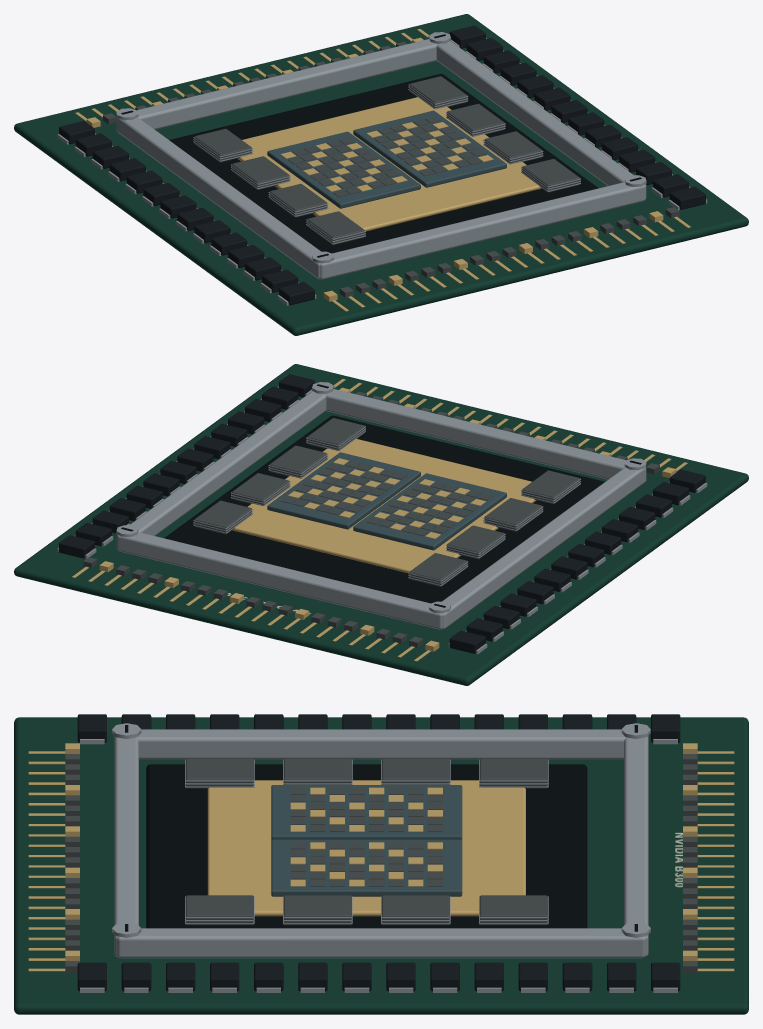
File: nvidia-b300-sxm.glb
The picture shows the model from 3 angles, top to bottom: view 1: azimuth 30°, elevation 25°; view 2: azimuth 150°, elevation 25°; view 3: azimuth 270°, elevation 25°; orthographic projection. The views are drawn at different scales.
Parts seen in each view (by area): view 1: solder-mask, stainless-steel (×3), memory-package (×2), copper-traces (×2), dark-machined-metal, black-polymer, silicon-die; view 2: solder-mask, stainless-steel (×3), memory-package (×2), copper-traces (×2), dark-machined-metal, black-polymer, silicon-die, marking-NVIDIA B300-#143d32; view 3: solder-mask, stainless-steel (×3), memory-package (×2), copper-traces (×2), black-polymer, dark-machined-metal, silicon-die, marking-NVIDIA B300-#143d32.
Boxes of the visible parts, x1,y1,x2,y2 form: solder-mask: (14, 14, 748, 335); stainless-steel (×3): (57, 32, 707, 305); memory-package (×2): (103, 36, 679, 297); copper-traces (×2): (75, 29, 690, 311); dark-machined-metal: (59, 25, 705, 305); black-polymer: (169, 73, 598, 253); silicon-die: (267, 110, 506, 208); solder-mask: (14, 364, 748, 685); stainless-steel (×3): (57, 382, 707, 654); memory-package (×2): (83, 386, 659, 647); copper-traces (×2): (72, 379, 687, 661); dark-machined-metal: (59, 374, 705, 653); black-polymer: (164, 415, 604, 603); silicon-die: (267, 452, 506, 550); marking-NVIDIA B300-#143d32: (180, 580, 353, 627); solder-mask: (14, 717, 748, 1014); stainless-steel (×3): (80, 723, 677, 992); memory-package (×2): (65, 754, 697, 972); copper-traces (×2): (28, 743, 734, 971); black-polymer: (146, 764, 587, 928); dark-machined-metal: (77, 714, 680, 991); silicon-die: (271, 785, 462, 896); marking-NVIDIA B300-#143d32: (665, 808, 682, 911).
Bounding box in the file's own units: 0.14 × 0.0136 × 0.15.
8 materials, 1 textured.
